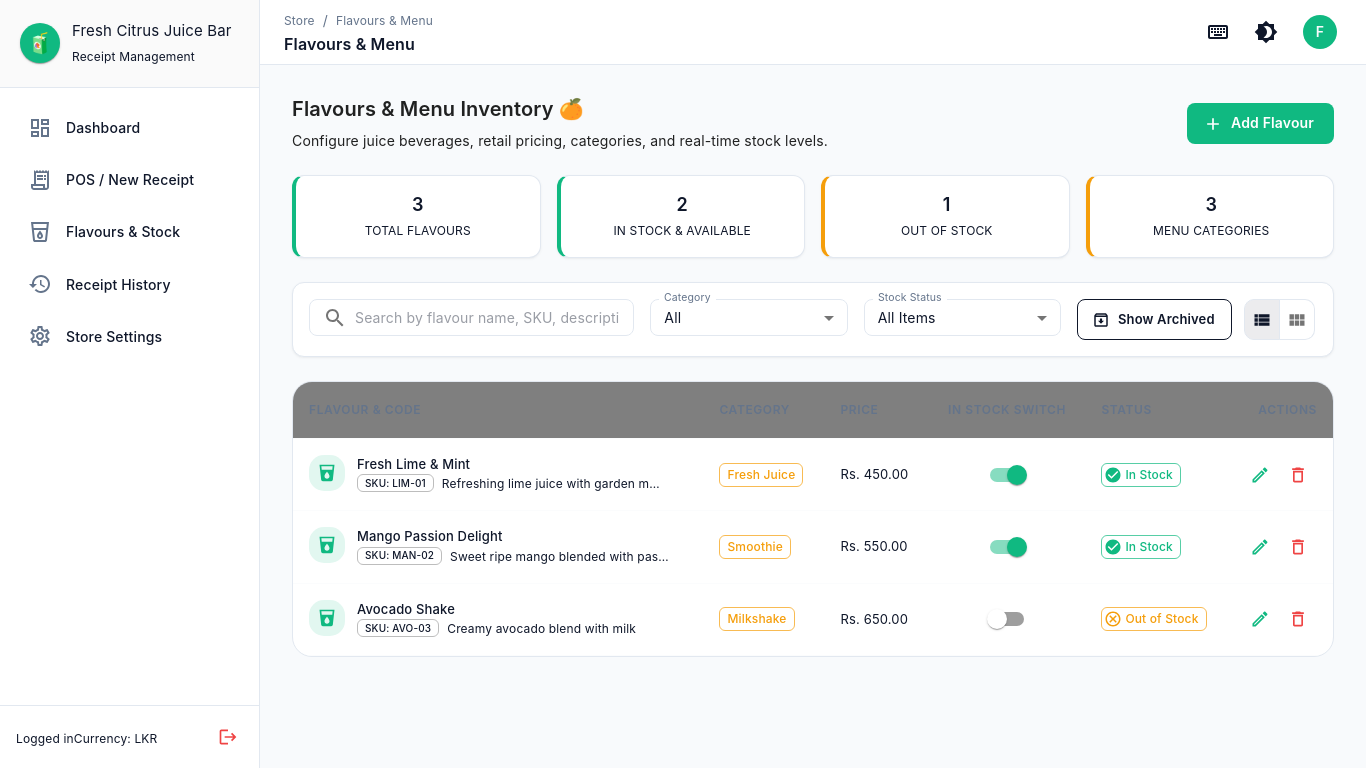
Scenario: Flavours Management Page Suite › filters flavours when searching by name or SKU
Type "Mango" into the field with placeholder "Search by flavour name, SKU, description..." at (495, 318), box [355,299,634,336]
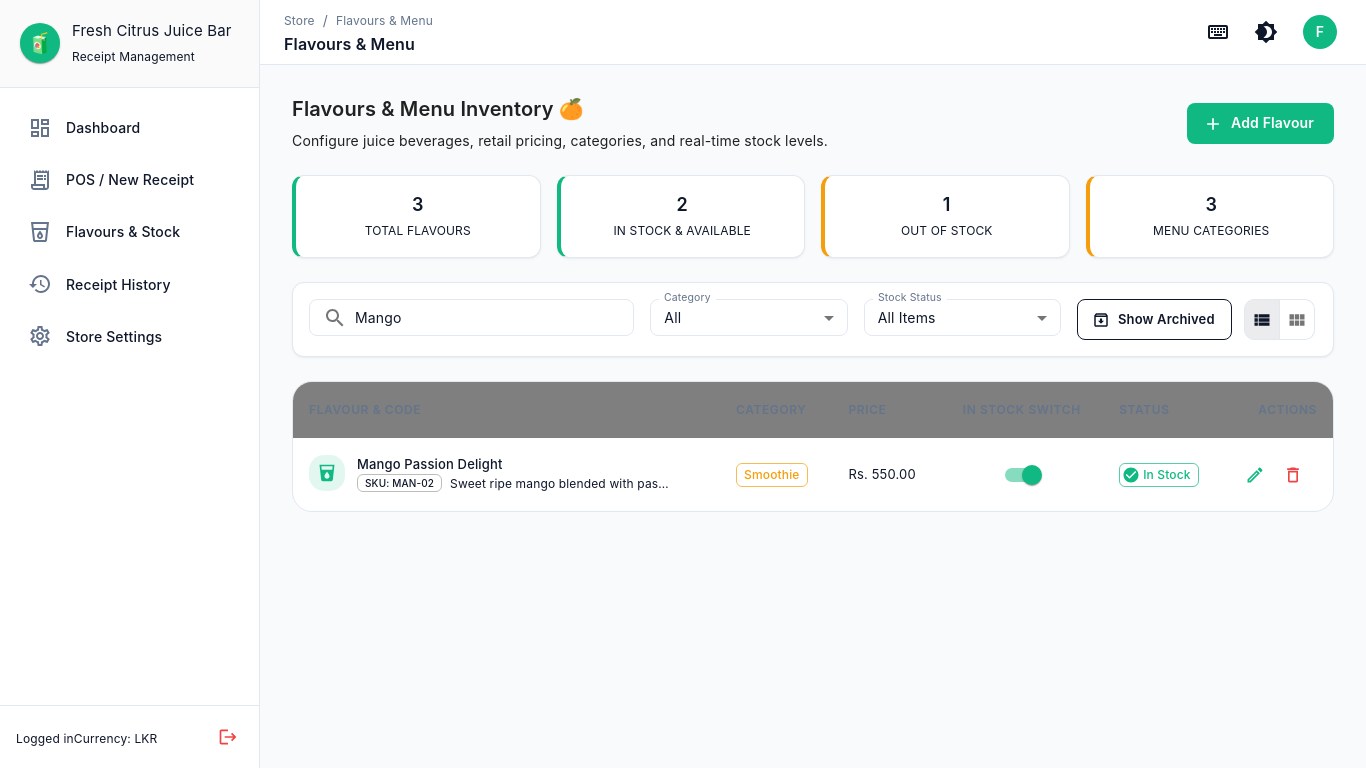
Expected: the heading "Mango Passion Delight" is shown, [357,456,502,472]
Expected: the heading "Fresh Lime & Mint" is gone
Expected: the heading "Avocado Shake" is gone
